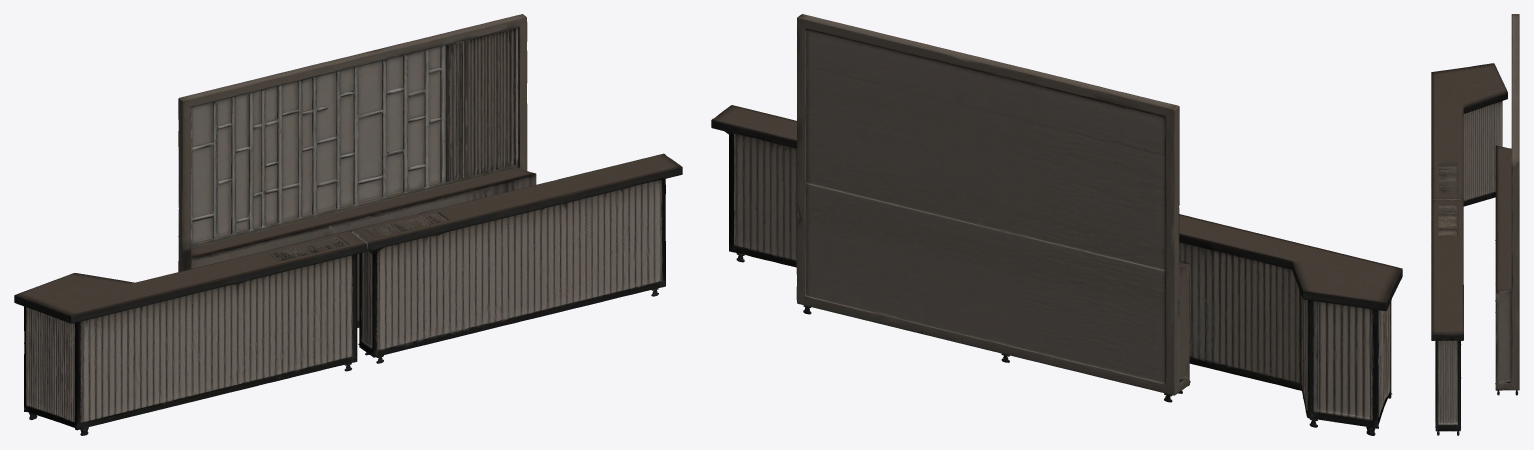
Rendered from bar-straight.glb.
The picture shows the model from 3 angles, left to right: view 1: azimuth 30°, elevation 25°; view 2: azimuth 150°, elevation 25°; view 3: azimuth 270°, elevation 25°; orthographic projection. The views are drawn at different scales.
Visible parts, largest first — view 1: tripo_node_65ddc878-57de-43f1-988f-4fc3f827317e; view 2: tripo_node_65ddc878-57de-43f1-988f-4fc3f827317e; view 3: tripo_node_65ddc878-57de-43f1-988f-4fc3f827317e.
Boxes of the visible parts, x1,y1,x2,y2 form: tripo_node_65ddc878-57de-43f1-988f-4fc3f827317e: (14,14,682,435); tripo_node_65ddc878-57de-43f1-988f-4fc3f827317e: (711,14,1402,435); tripo_node_65ddc878-57de-43f1-988f-4fc3f827317e: (1431,14,1519,435).
Bounding box in the file's own units: 5.8 × 2.37 × 0.7999.
Materials: 1 (1 with a texture image).
